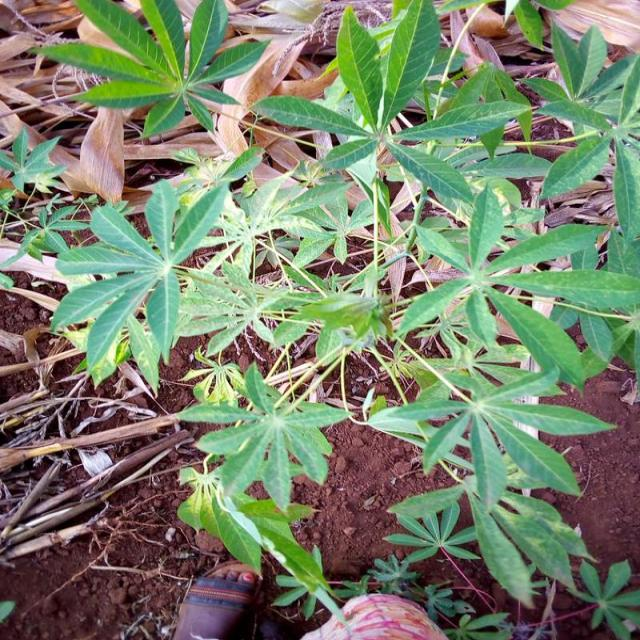cassava leaf: (2, 1, 638, 633), (49, 175, 231, 390)
